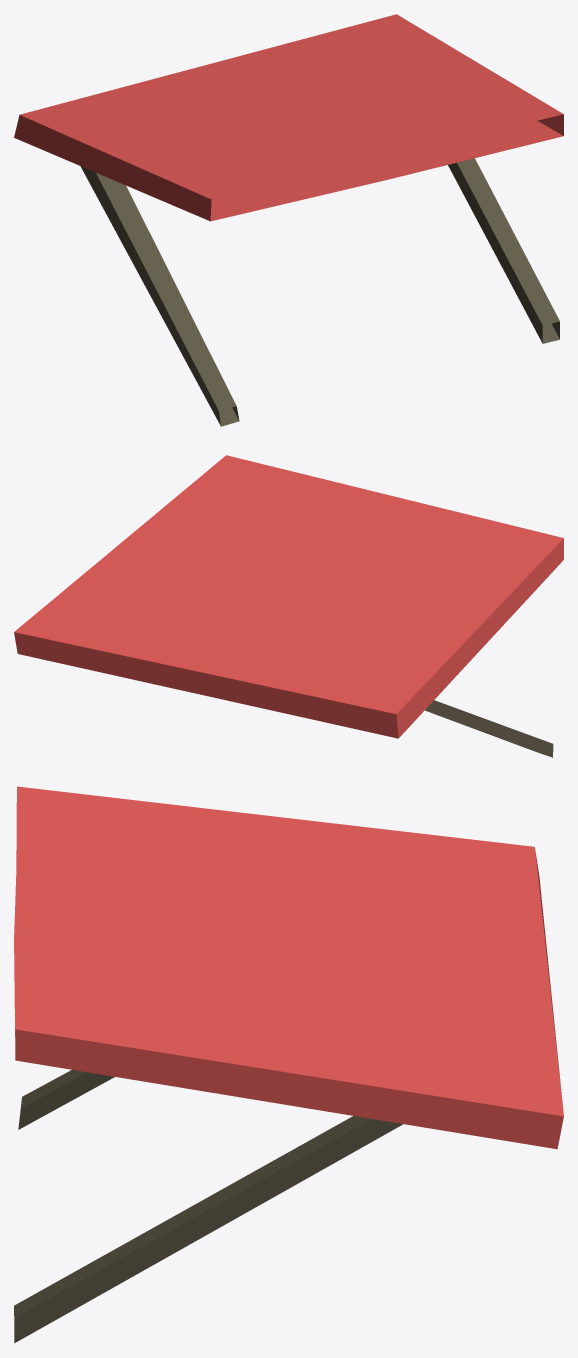
File: Building_Veranda_Small.fbx
3 renders of one model, top to bottom at view 1: azimuth 30°, elevation 25°; view 2: azimuth 150°, elevation 25°; view 3: azimuth 270°, elevation 25°, orthographic. The views are drawn at different scales.
Visible parts, largest first — view 1: Building_Veranda_Small; view 2: Building_Veranda_Small; view 3: Building_Veranda_Small.
Part boxes in pixels (x1=…): Building_Veranda_Small: x1=14, y1=14, x2=563, y2=426; Building_Veranda_Small: x1=14, y1=455, x2=563, y2=757; Building_Veranda_Small: x1=14, y1=786, x2=563, y2=1343.
Bounding box in the file's own units: 1160 × 652 × 998.
